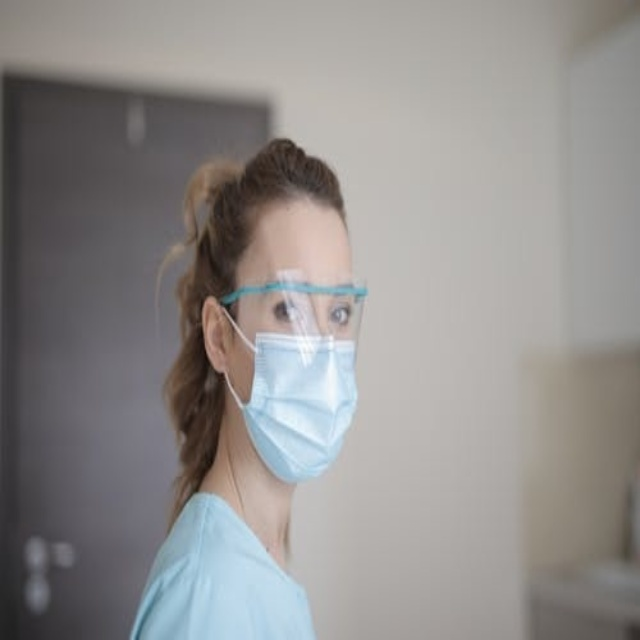Gafas: (218, 281, 370, 356)
Mascara: (223, 295, 359, 485)
